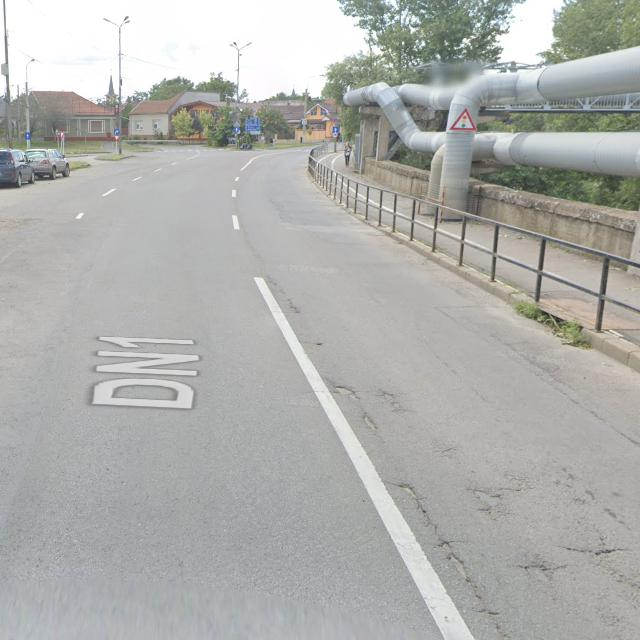info_one_way_traffic: (332, 127, 340, 133), (25, 132, 31, 140)
mand_right: (114, 128, 120, 136)
warn_traffic_light: (449, 108, 477, 132)
